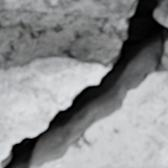broken_brick: (30, 70, 167, 167), (0, 56, 111, 159), (0, 0, 132, 16), (154, 0, 167, 25)
crack: (0, 0, 167, 167)
